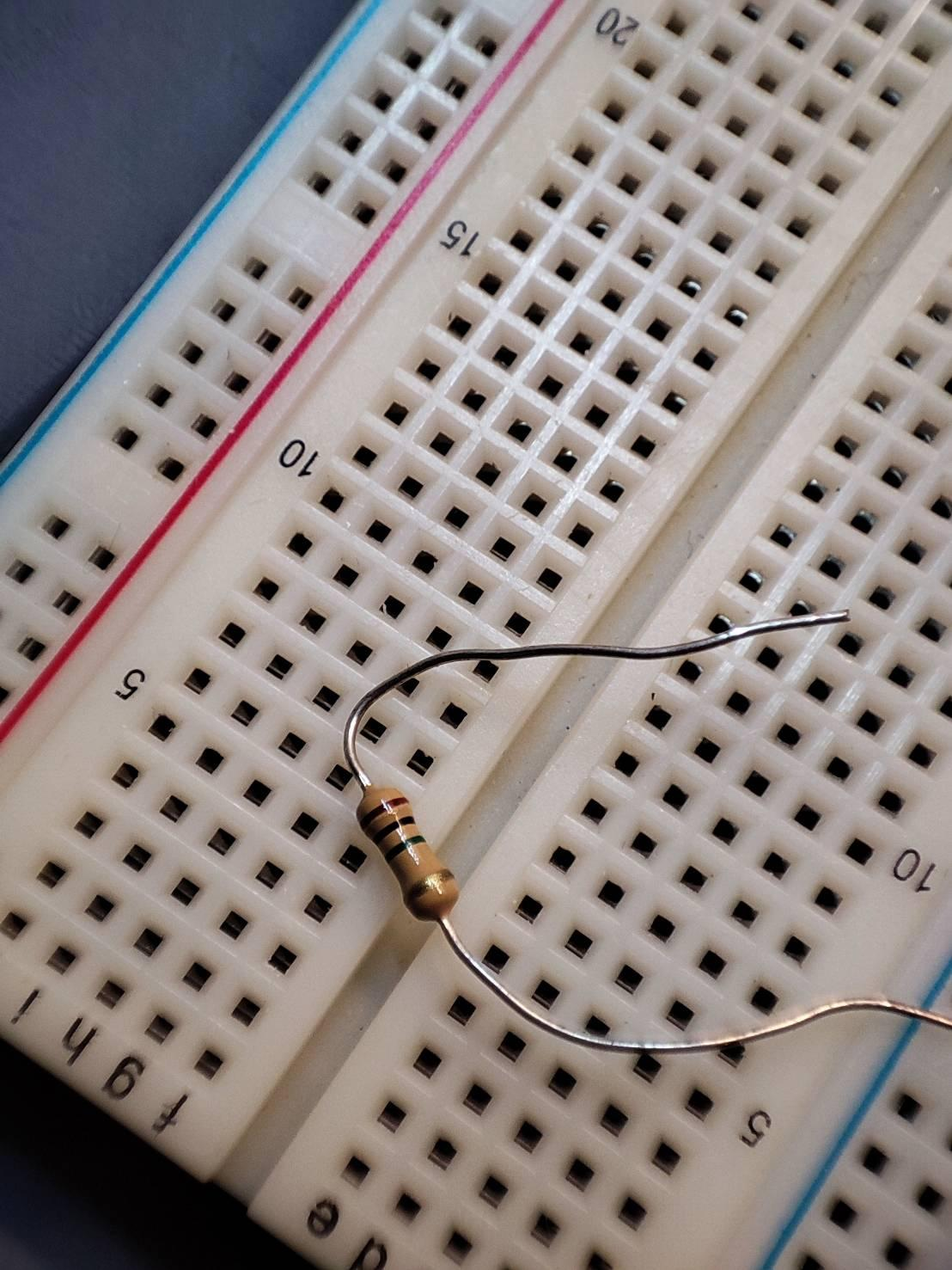resistor: (359, 770, 476, 936)
